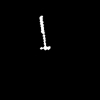half_double_crochet: (40, 16, 49, 49)
